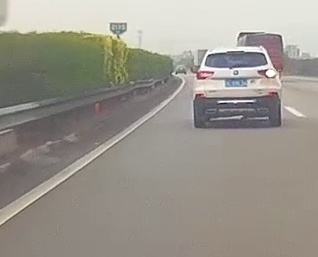L_light: (196, 71, 215, 81)
R_light: (257, 69, 277, 78)
T_light: (226, 51, 245, 54)
day-right: (193, 46, 281, 128)
